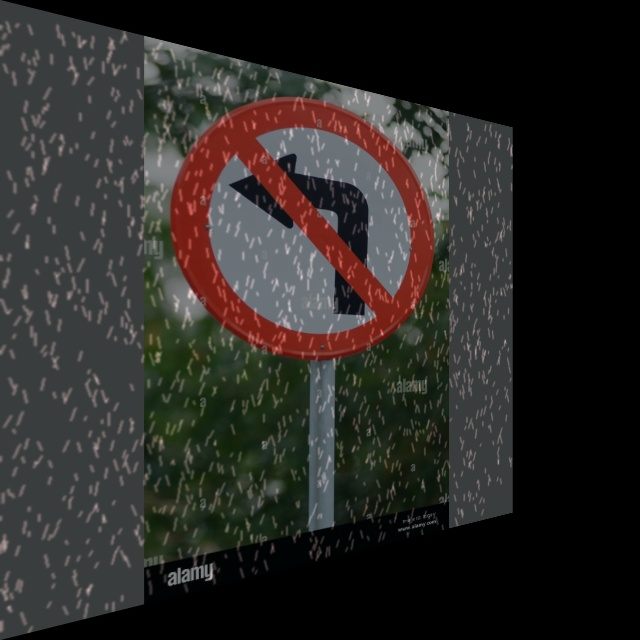Left_Turn_Prohibited: (168, 67, 435, 363)
